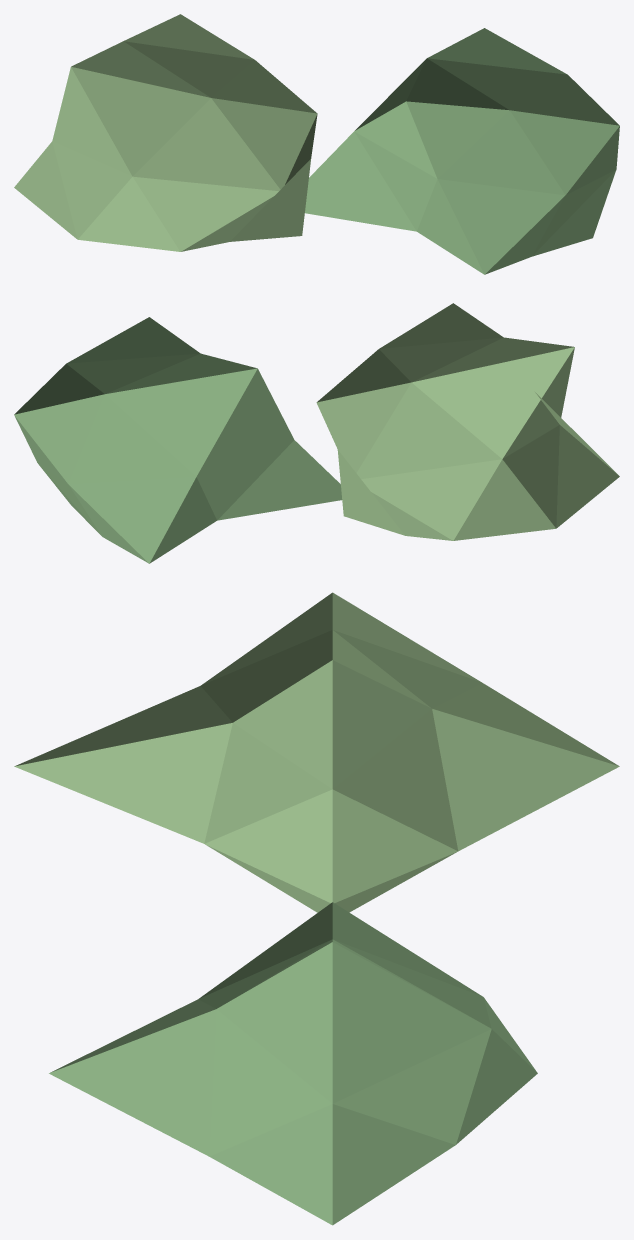
File: shrub_v33.glb
3 views of the same model, one above another, from view 1: azimuth 30°, elevation 25°; view 2: azimuth 150°, elevation 25°; view 3: azimuth 270°, elevation 25° (orthographic). The views are drawn at different scales.
Visible parts, largest first — view 1: lod0; view 2: lod0; view 3: lod0.
Boxes of the visible parts, x1,y1,x2,y2 form: lod0: (14, 14, 619, 274); lod0: (14, 303, 619, 563); lod0: (14, 592, 619, 1225).
Size of what is drawn, in the model's own units: 1.48 by 0.7791 by 0.9752.
